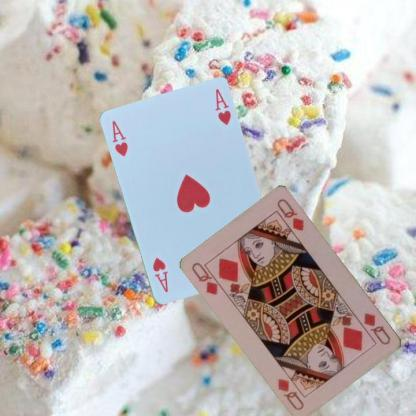Ah: (110, 118, 130, 158)
Qd: (189, 260, 227, 296), (361, 310, 392, 346)
